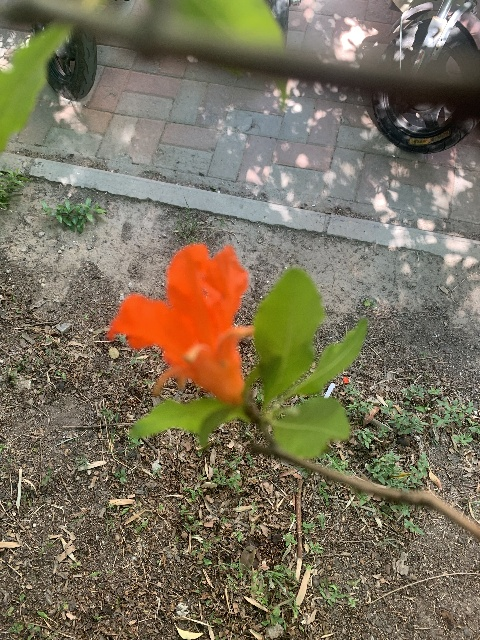flower: (109, 241, 254, 405)
